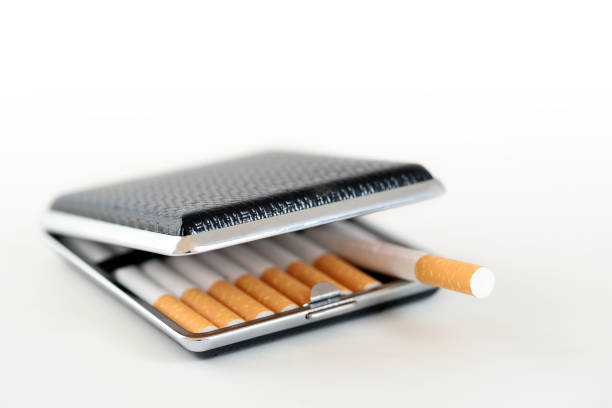cigarette: (304, 223, 497, 300), (167, 255, 274, 322), (140, 259, 245, 327), (113, 264, 218, 332), (275, 231, 383, 293), (195, 251, 299, 313), (248, 239, 353, 295), (220, 244, 311, 306)
